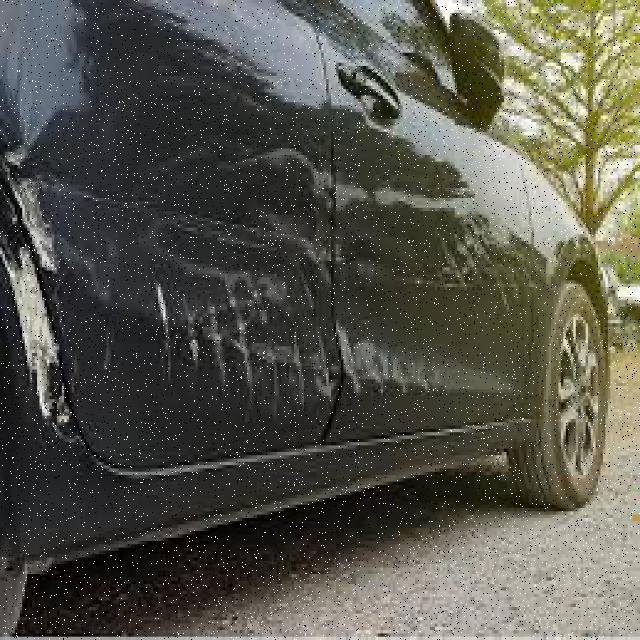doorouter-dent: (0, 10, 329, 452), (333, 46, 524, 452)
